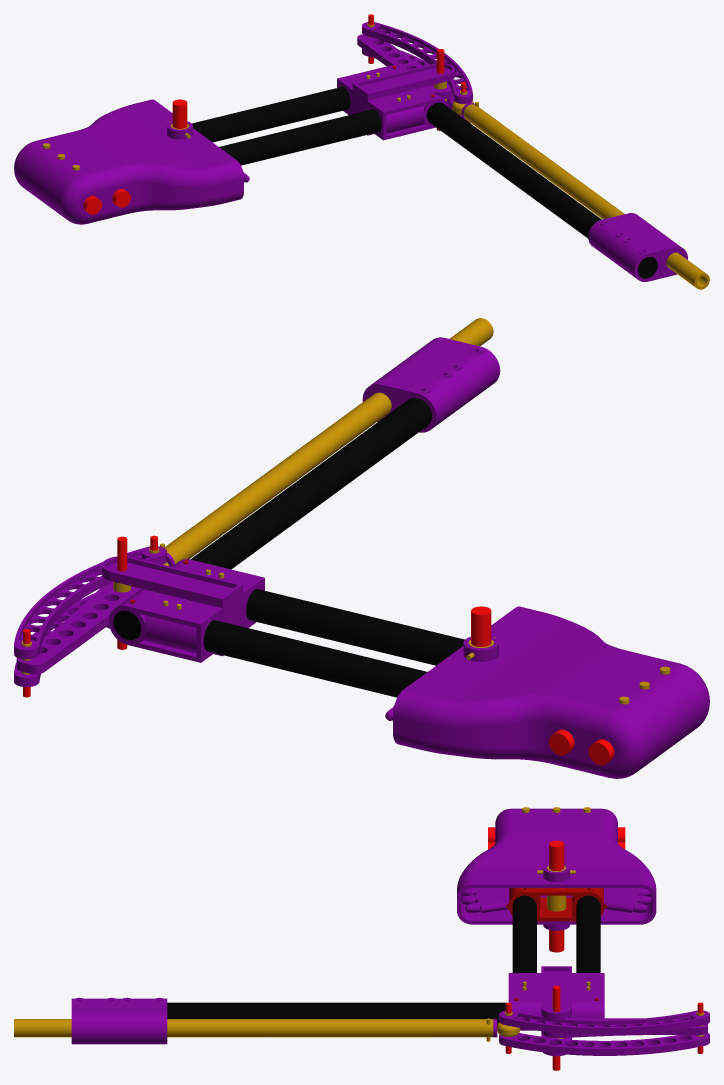
The model's file is Test_Mesh_Leg_7-1-2026.gltf.
3 renders of one model, top to bottom at view 1: azimuth 30°, elevation 25°; view 2: azimuth 150°, elevation 25°; view 3: azimuth 270°, elevation 25°, orthographic. The views are drawn at different scales.
Bounding box in the file's own units: 0.2681 × 0.0607 × 0.363.
